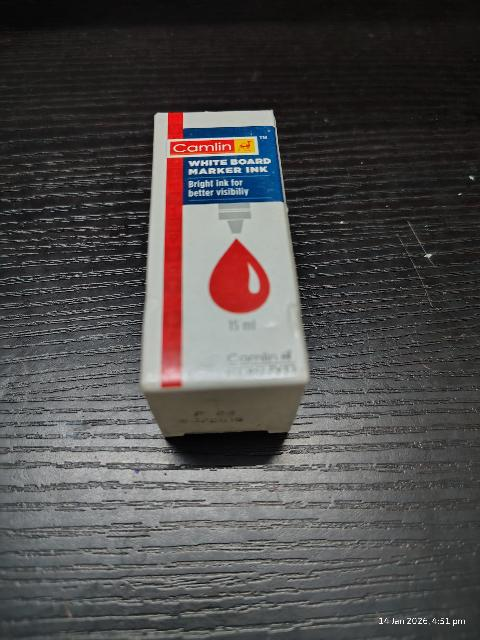camlin marker ink: (150, 109, 293, 438)
